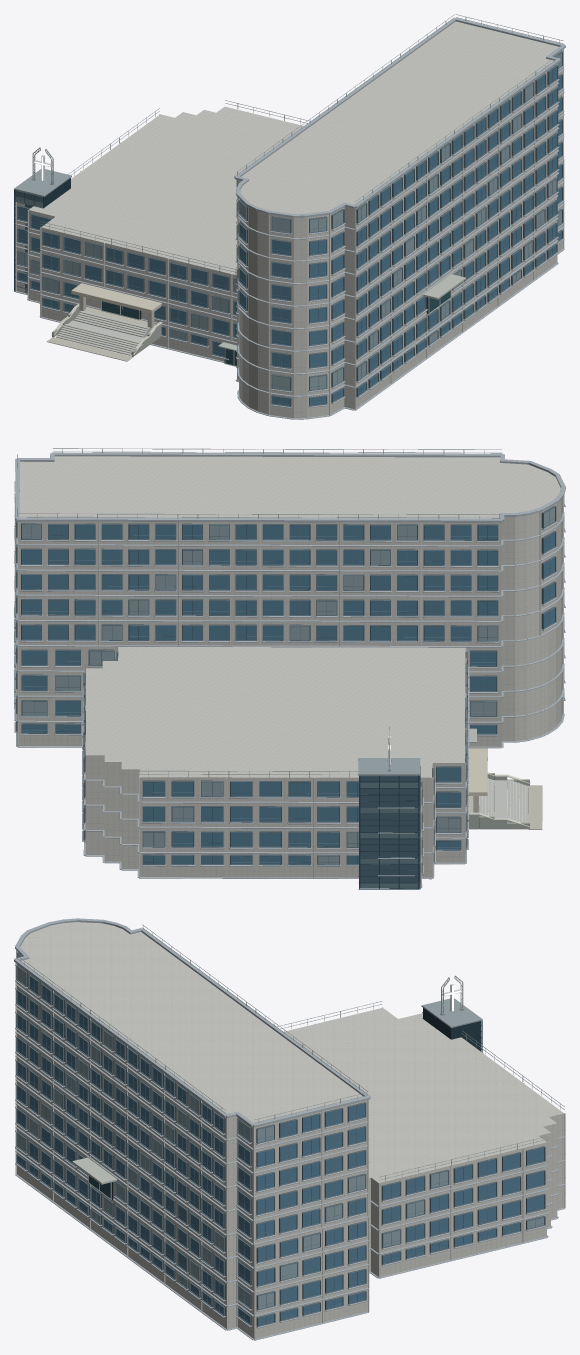
Rendered from main.glb.
The picture shows the model from 3 angles, top to bottom: view 1: azimuth 30°, elevation 25°; view 2: azimuth 150°, elevation 25°; view 3: azimuth 270°, elevation 25°; orthographic projection. The views are drawn at different scales.
Parts seen in each view (by area): view 1: main_body_d6d7d2, main, main_glass_54819a, main_stone_aeb9c0, main_glass_90a8b0, main_stone_d6d7d2, main_stone_c6c9c5, main_frames_9aa8a9, main_stone_d4d1c2, main_stone_9ba9ad, main_stone_e2e2d9, main_glass_355b64 (+2 smaller); view 2: main_body_d6d7d2, main_glass_54819a, main, main_stone_aeb9c0, main_glass_90a8b0, main_stone_d6d7d2, main_frames_9aa8a9, main_frames_304b5c, main_glass_65818d, main_stone_c6c9c5, main_stone_9ba9ad, main_stone_d4d1c2 (+3 smaller); view 3: main_body_d6d7d2, main, main_glass_54819a, main_stone_aeb9c0, main_glass_90a8b0, main_stone_d6d7d2, main_frames_9aa8a9, main_stone_9ba9ad, main_stone_263f4c, main_stone_c3c8c1.
Part boxes in pixels (x1,y1,x2,y2): main_body_d6d7d2: (16, 21, 563, 418); main: (15, 51, 563, 406); main_glass_54819a: (18, 67, 561, 405); main_stone_aeb9c0: (15, 18, 565, 419); main_glass_90a8b0: (18, 53, 561, 390); main_stone_d6d7d2: (15, 49, 564, 418); main_stone_c6c9c5: (56, 311, 149, 355); main_frames_9aa8a9: (40, 14, 563, 272); main_stone_d4d1c2: (71, 283, 161, 313); main_stone_9ba9ad: (14, 169, 71, 196); main_stone_e2e2d9: (57, 311, 149, 353); main_glass_355b64: (102, 291, 450, 365); main_body_d6d7d2: (18, 456, 562, 877); main_glass_54819a: (21, 525, 554, 864); main: (15, 496, 564, 882); main_stone_aeb9c0: (14, 452, 565, 888); main_glass_90a8b0: (21, 507, 554, 864); main_stone_d6d7d2: (17, 496, 563, 887); main_frames_9aa8a9: (17, 448, 501, 774); main_frames_304b5c: (358, 766, 420, 889); main_glass_65818d: (360, 782, 418, 888); main_stone_c6c9c5: (479, 778, 528, 822); main_stone_9ba9ad: (358, 758, 420, 775); main_stone_d4d1c2: (467, 748, 487, 795); main_body_d6d7d2: (17, 922, 564, 1338); main: (16, 950, 545, 1326); main_glass_54819a: (17, 976, 544, 1325); main_stone_aeb9c0: (14, 918, 565, 1340); main_glass_90a8b0: (17, 955, 544, 1309); main_stone_d6d7d2: (15, 950, 565, 1340); main_frames_9aa8a9: (16, 924, 564, 1180); main_stone_9ba9ad: (421, 998, 482, 1027); main_stone_263f4c: (423, 1008, 481, 1051); main_stone_c3c8c1: (72, 1157, 116, 1184).
Size of the model in its own units: 82.75 by 33.45 by 75.77.
36 materials, 1 textured.
